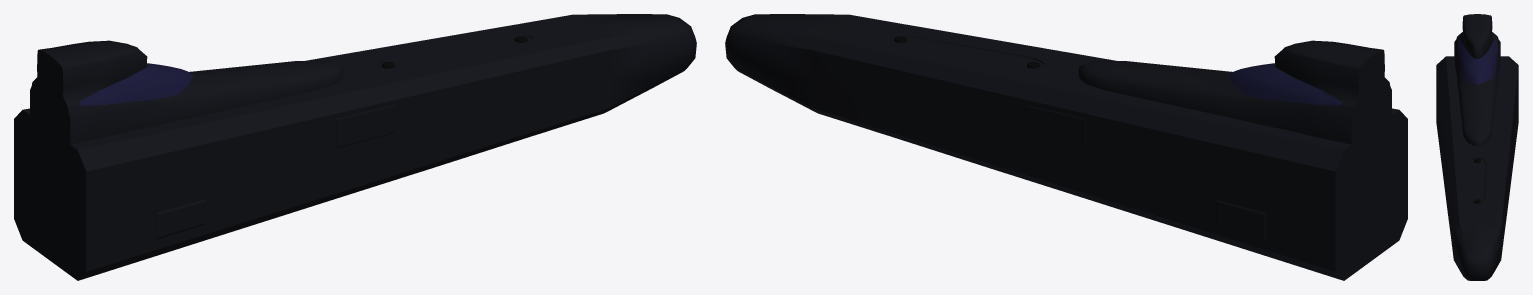
Rendered from SK_Ship_B_Nose.fbx.
3 views of the same model, side by side, from view 1: azimuth 30°, elevation 25°; view 2: azimuth 150°, elevation 25°; view 3: azimuth 270°, elevation 25° (orthographic). The views are drawn at different scales.
Visible parts, largest first — view 1: SK_Ship_B_Nose; view 2: SK_Ship_B_Nose; view 3: SK_Ship_B_Nose.
Boxes of the visible parts, x1,y1,x2,y2 form: SK_Ship_B_Nose: (14,14,696,280); SK_Ship_B_Nose: (725,14,1407,280); SK_Ship_B_Nose: (1436,14,1518,280).
Bounding box in the file's own units: 628 × 192 × 122.
